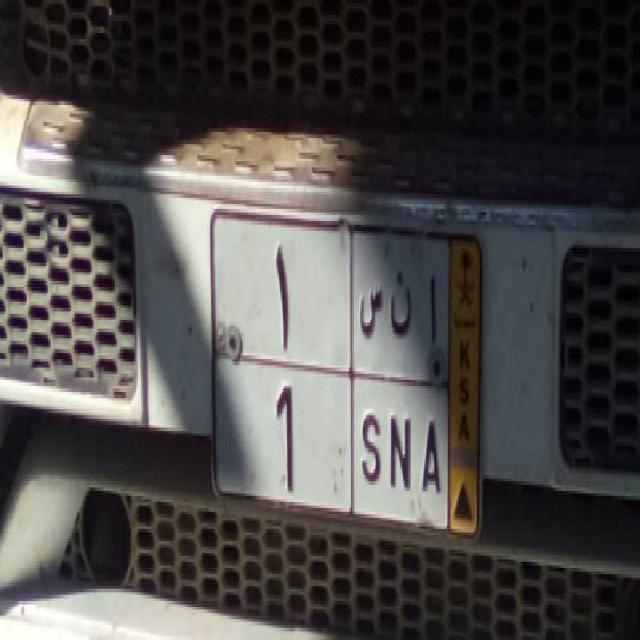license_plate: (213, 364, 447, 528)
